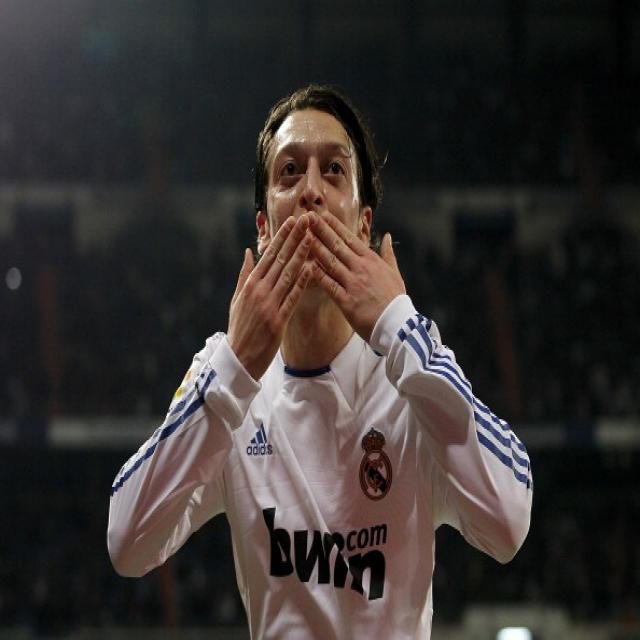nomask: (264, 108, 362, 298)
